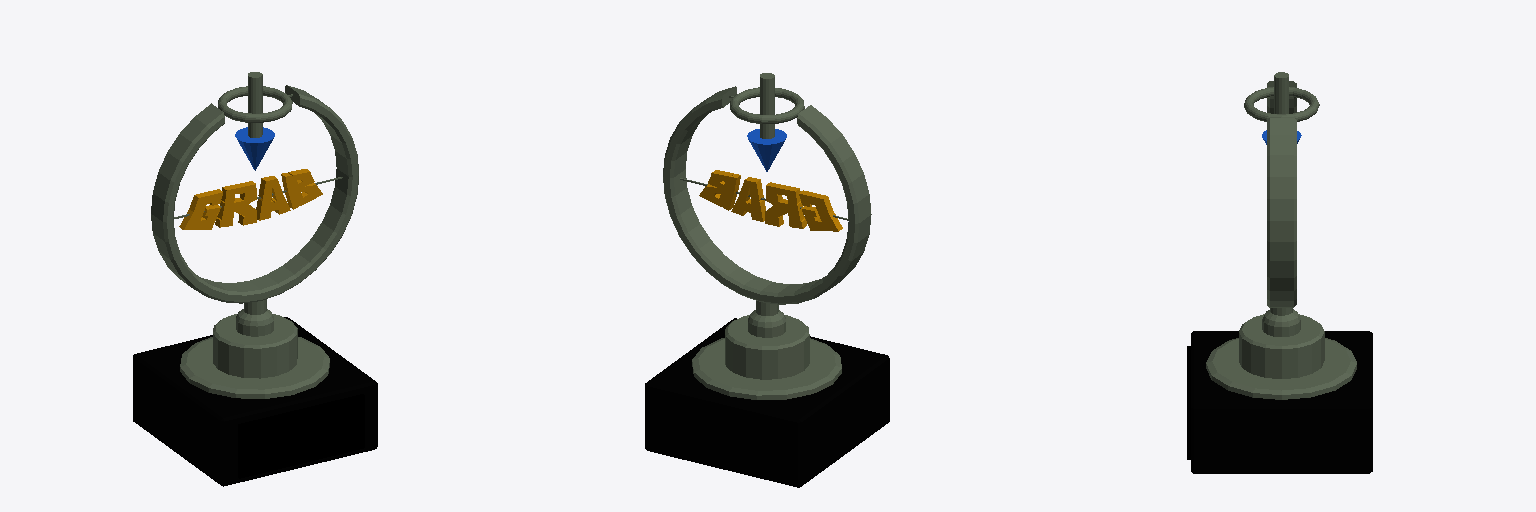
File: trophy_gab.obj
3 views of the same model, side by side, from view 1: azimuth 30°, elevation 25°; view 2: azimuth 150°, elevation 25°; view 3: azimuth 270°, elevation 25° (orthographic).
Visible parts, largest first — view 1: 2, 0, 4, 1, 3; view 2: 2, 0, 1, 3; view 3: 0, 2.
Part boxes in pixels (x1,y1,x2,y2): 2: (151,72,358,398); 0: (133,317,377,486); 4: (238,394,364,478); 1: (179,169,322,229); 3: (235,127,274,170); 2: (663,73,871,399); 0: (645,318,889,487); 1: (699,170,842,231); 3: (747,129,786,171); 0: (1191,331,1372,473); 2: (1206,72,1356,399).
Size of the model in its own units: 0.3831 by 0.6725 by 0.3122.